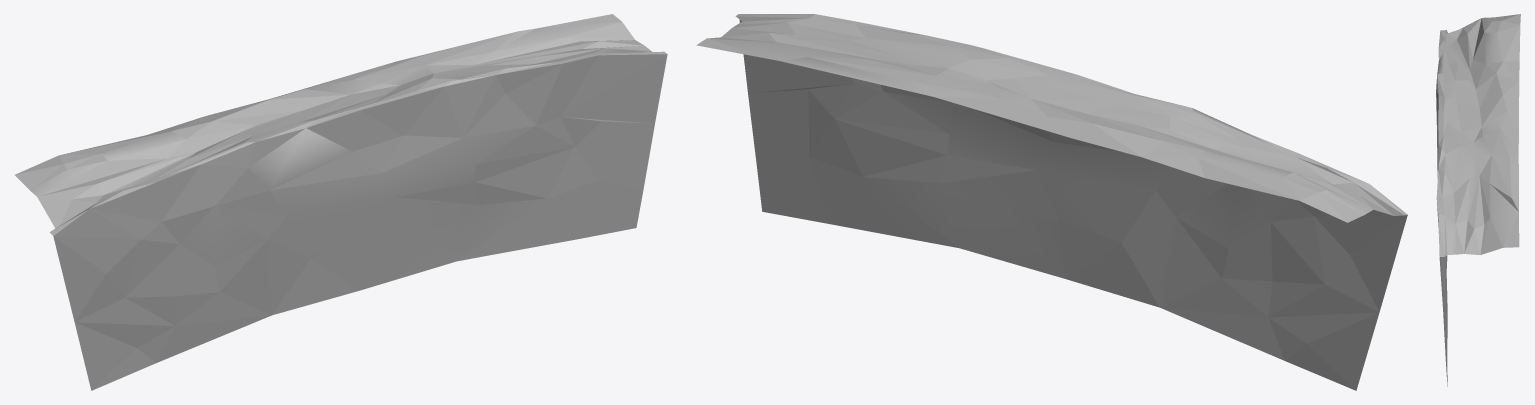
File: cliff_front.dae
3 renders of one model, left to right at view 1: azimuth 30°, elevation 25°; view 2: azimuth 150°, elevation 25°; view 3: azimuth 270°, elevation 25°, orthographic. The views are drawn at different scales.
Visible parts, largest first — view 1: Cliff_02; view 2: Cliff_02; view 3: Cliff_02.
Boxes of the visible parts, left/top/right/bottom form: Cliff_02: left=15, top=14, right=667, bottom=390; Cliff_02: left=696, top=14, right=1407, bottom=390; Cliff_02: left=1436, top=14, right=1520, bottom=386.
Bounding box in the file's own units: 5.09 × 0.7198 × 1.79.
Materials: 1 (1 with a texture image).
